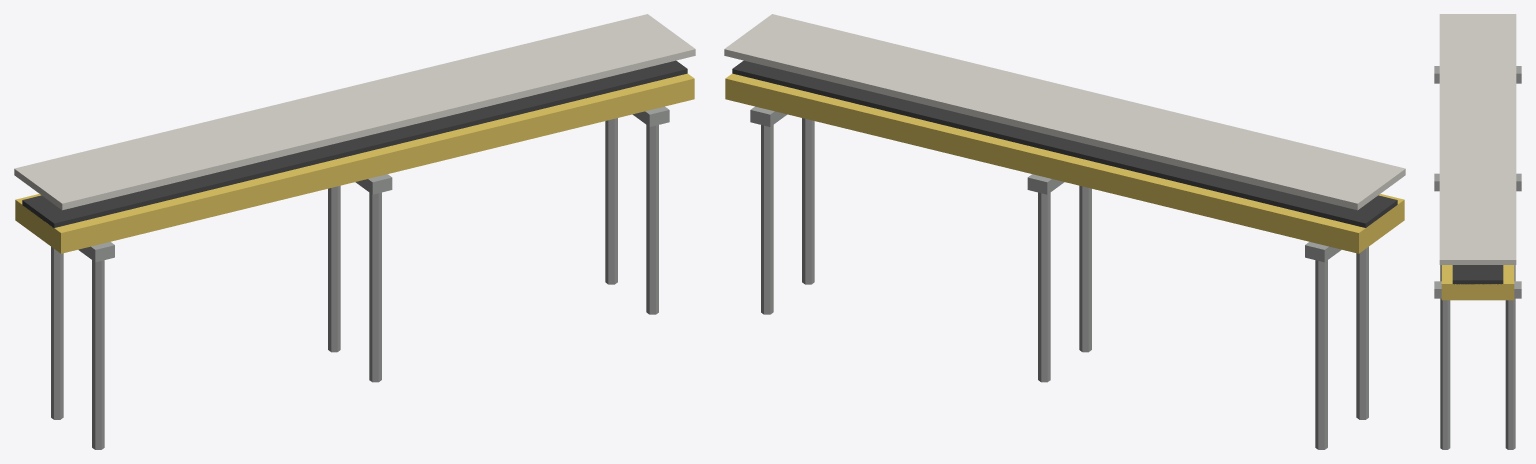
Rendered from ConveyorRun.glb.
3 renders of one model, left to right at view 1: azimuth 30°, elevation 25°; view 2: azimuth 150°, elevation 25°; view 3: azimuth 270°, elevation 25°, orthographic. The views are drawn at different scales.
Parts seen in each view (by area): view 1: Cover hood, Conveyor deck, Belt, Limb.029, Limb.031, Limb.027, Limb.028, Limb.030, Limb.032; view 2: Cover hood, Conveyor deck, Belt, Limb.030, Limb.032, Limb.028, Limb.027, Limb.029, Limb.031; view 3: Cover hood, Conveyor deck, Limb.031, Limb.032, Belt, Bent cap.002, Bent cap.001, Bent cap.
Boxes of the visible parts, box(x1,y1,x2,y2) form: Cover hood: box(14, 14, 695, 210); Conveyor deck: box(15, 73, 694, 253); Belt: box(22, 60, 687, 228); Limb.029: box(369, 192, 381, 382); Limb.031: box(646, 125, 658, 314); Limb.027: box(92, 260, 104, 449); Limb.028: box(51, 247, 63, 419); Limb.030: box(328, 185, 340, 352); Limb.032: box(605, 118, 617, 284); Cover hood: box(724, 14, 1405, 210); Conveyor deck: box(725, 73, 1404, 253); Belt: box(732, 60, 1397, 227); Limb.030: box(1038, 192, 1050, 382); Limb.032: box(761, 125, 773, 314); Limb.028: box(1315, 260, 1327, 449); Limb.027: box(1356, 247, 1368, 419); Limb.029: box(1079, 185, 1091, 352); Limb.031: box(802, 118, 814, 284); Cover hood: box(1439, 14, 1516, 264); Conveyor deck: box(1441, 265, 1514, 300); Limb.031: box(1440, 298, 1450, 449); Limb.032: box(1505, 298, 1515, 449); Belt: box(1452, 265, 1503, 284); Bent cap.002: box(1434, 281, 1521, 298); Bent cap.001: box(1434, 173, 1521, 191); Bent cap: box(1434, 66, 1521, 83).
Size of the model in its own units: 8 by 3.09 by 1.2.
